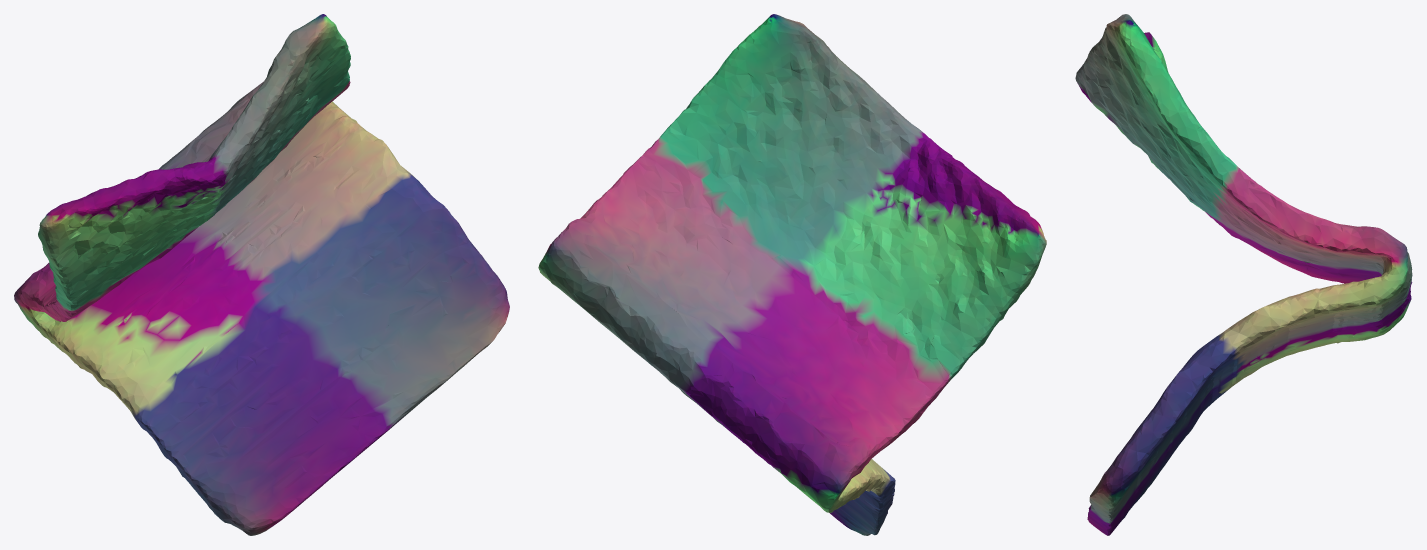
File: paper-13.off.obj
3 renders of one model, left to right at view 1: azimuth 30°, elevation 25°; view 2: azimuth 150°, elevation 25°; view 3: azimuth 270°, elevation 25°, orthographic. The views are drawn at different scales.
Size of the model in its own units: 1.53 by 1.6 by 0.881.
